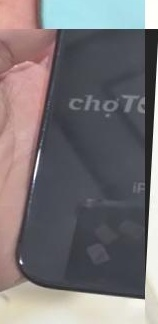scratch: (24, 41, 69, 176), (5, 250, 40, 275)
